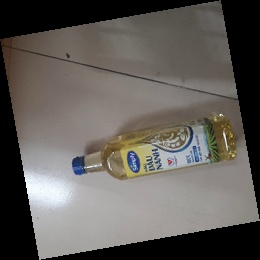Simply: (67, 114, 243, 182)
